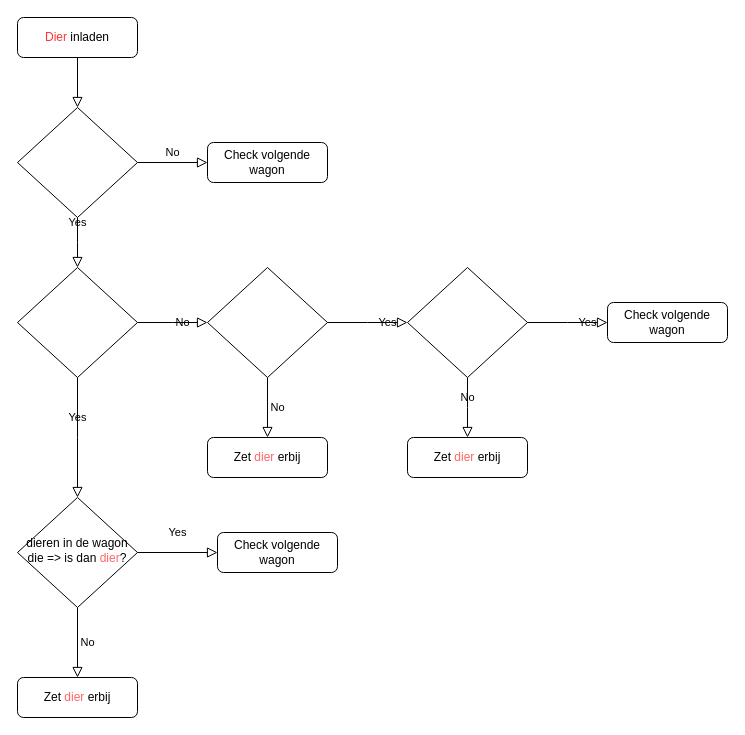
This 745x735 diagram has some shape labels left out. The centre of each missing label's shape, as x and y in pixels:
Dieren in de wagon die vlees eten?: pixel 267 322
Eet dier vlees?: pixel 77 322
Vleesetende dieren in de wagon die => is dan dier ?: pixel 467 322
Wagon + punten van dier < 10: pixel 77 162
